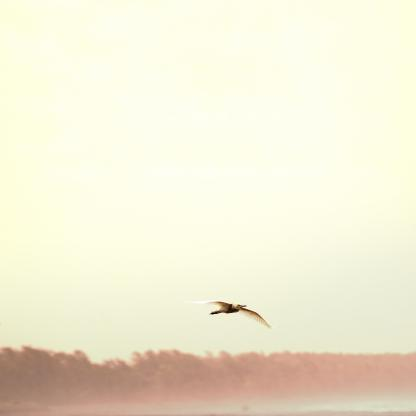bird: (183, 298, 273, 329)
